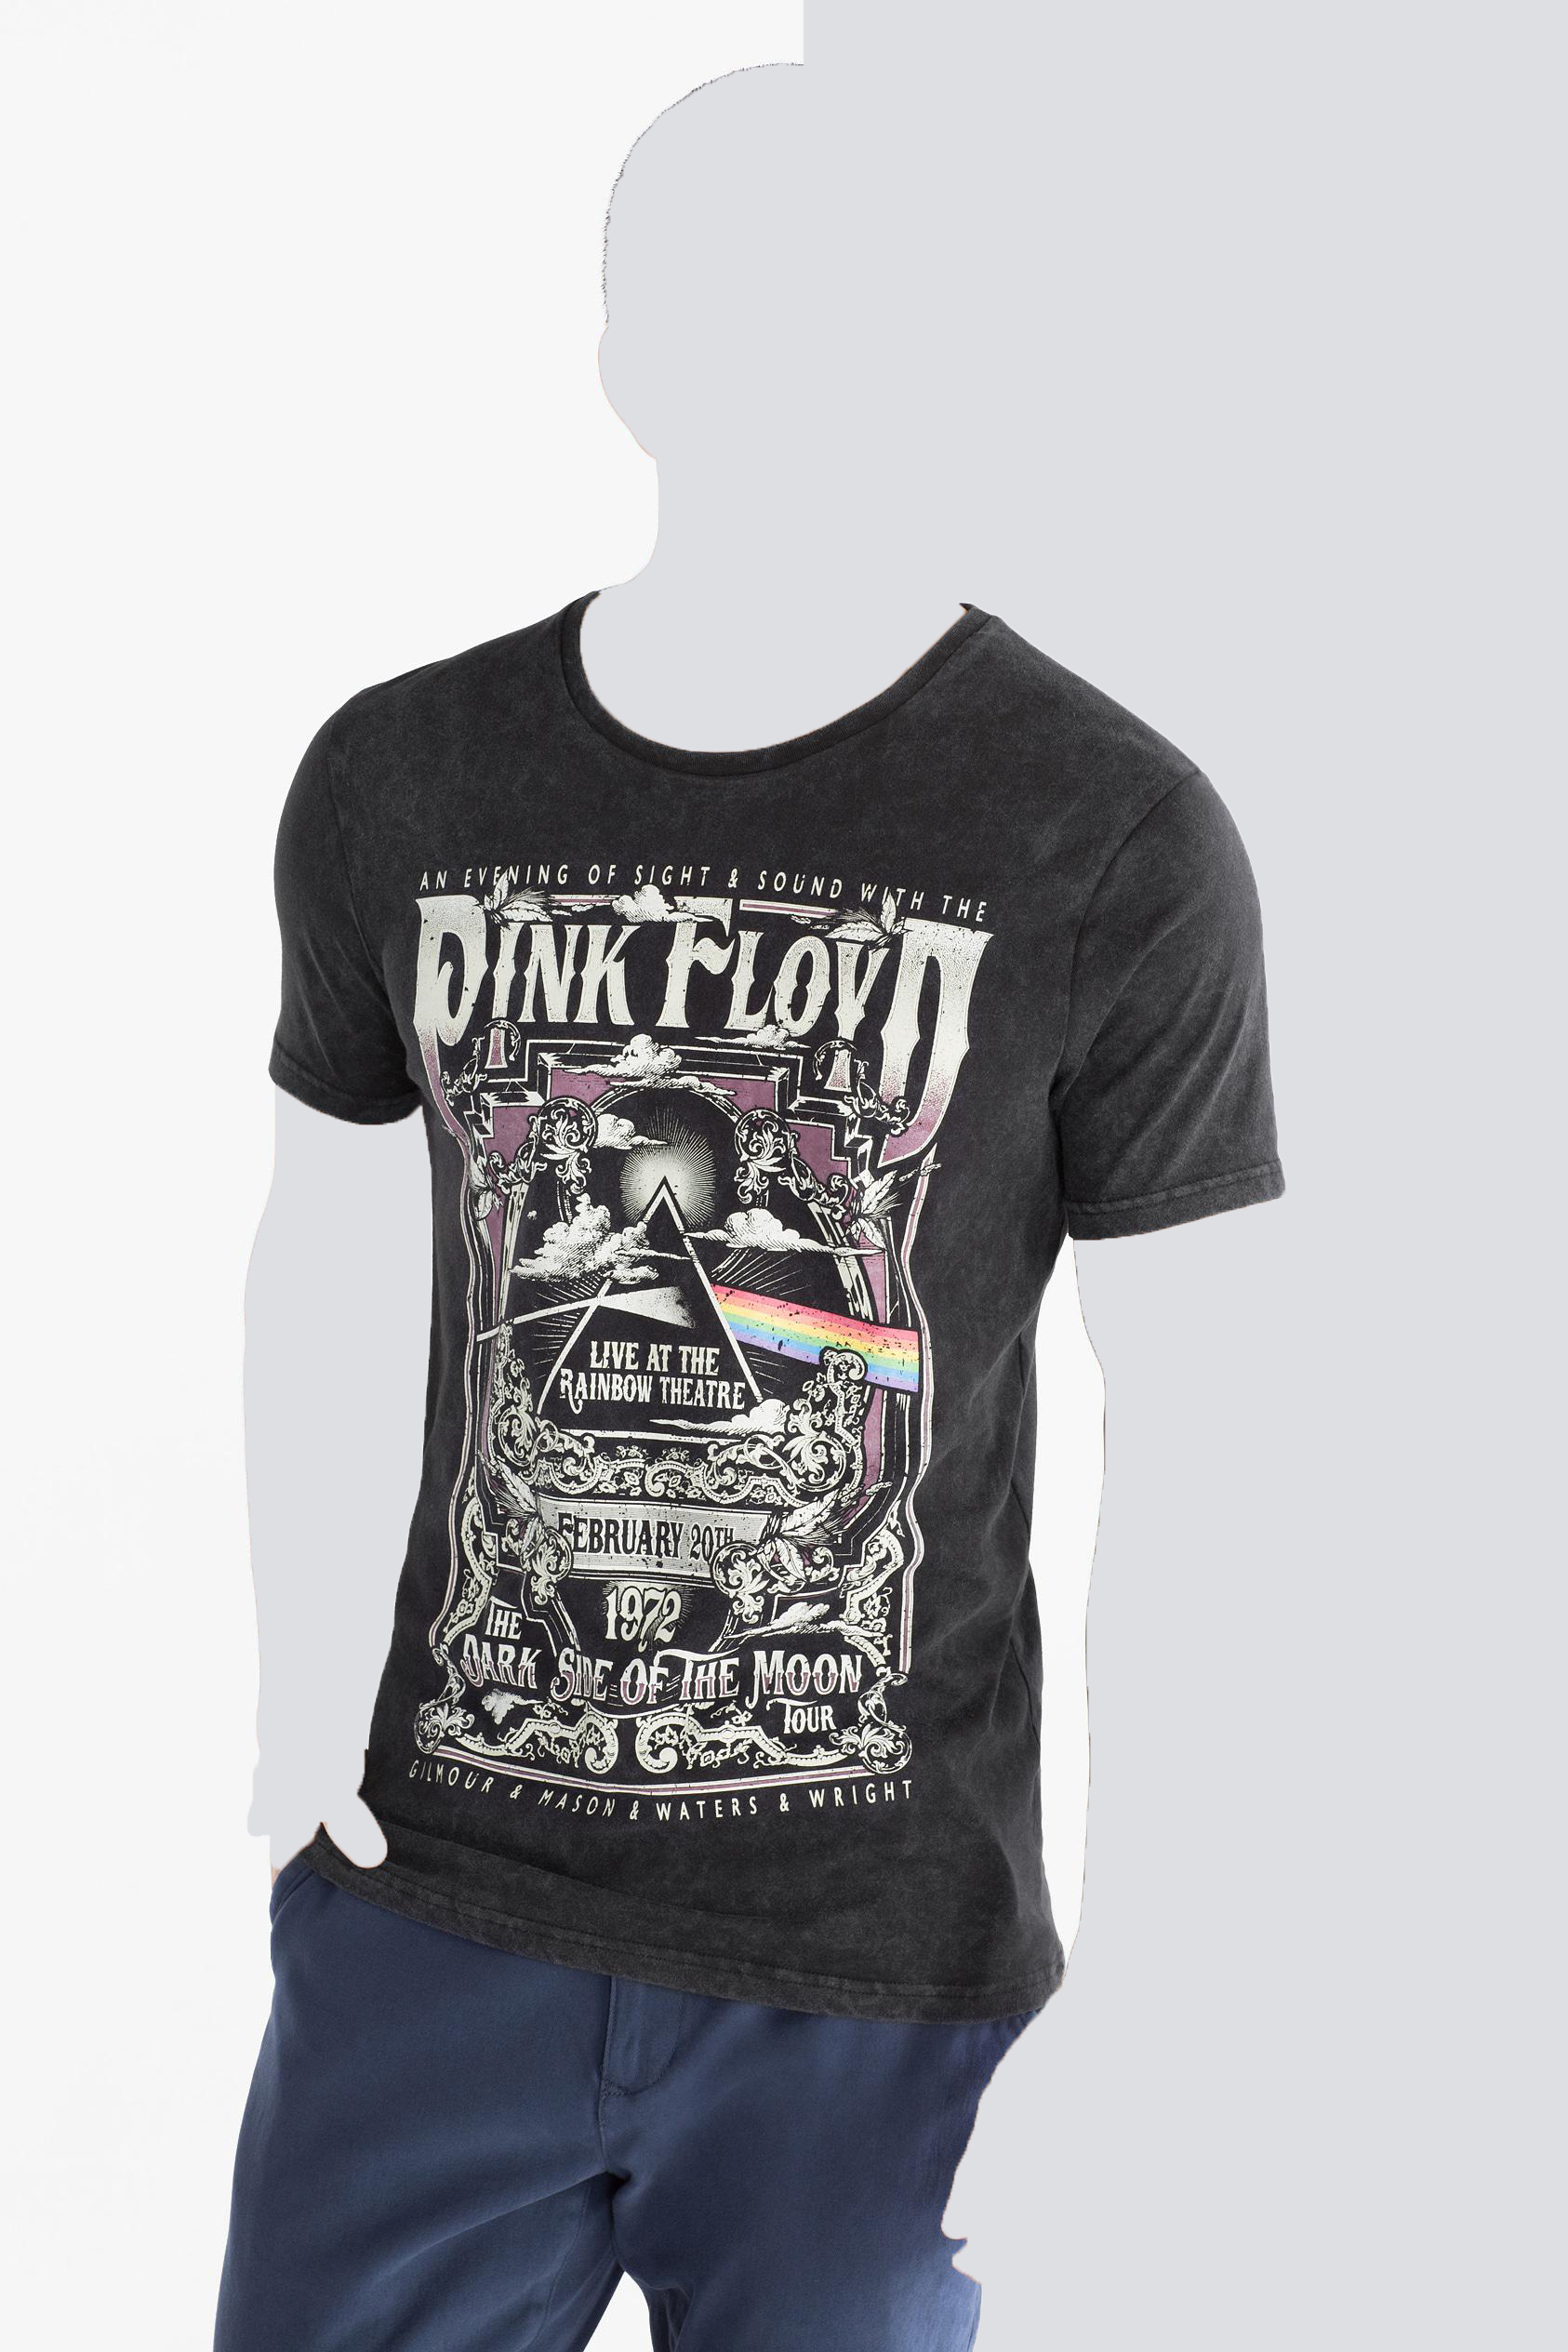teeshirt: (184, 571, 1297, 2026)
